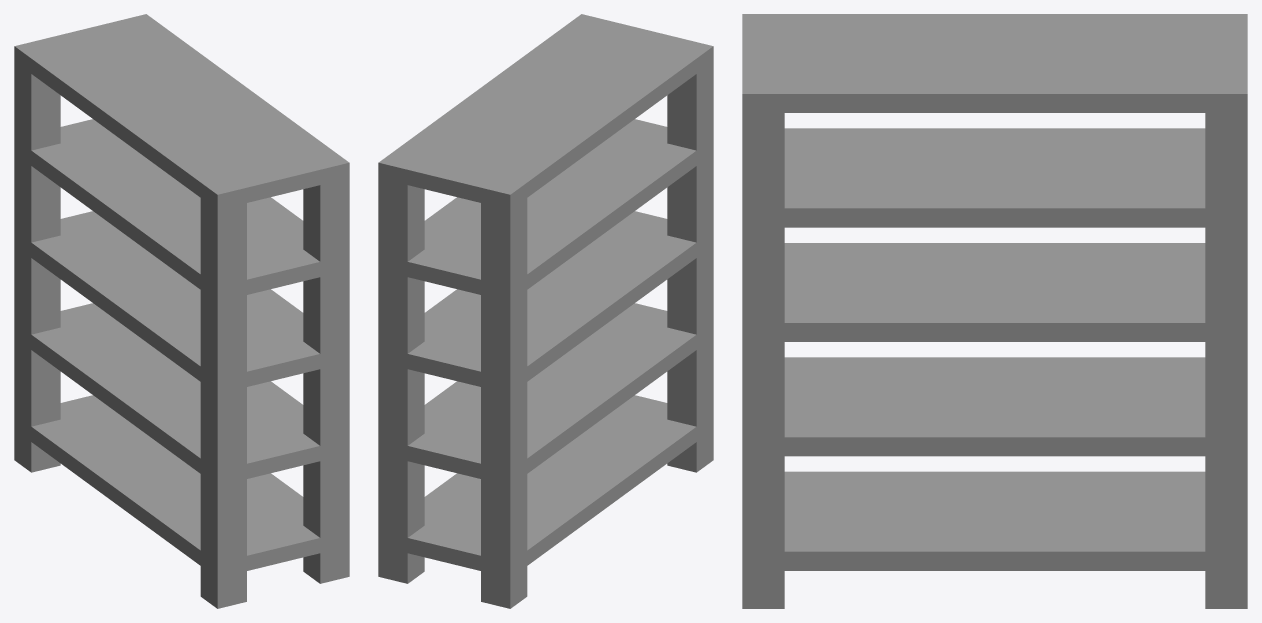
Rendered from lvl1-16.obj.
The picture shows the model from 3 angles, left to right: view 1: azimuth 30°, elevation 25°; view 2: azimuth 150°, elevation 25°; view 3: azimuth 270°, elevation 25°; orthographic projection. The views are drawn at different scales.
Bounding box in the file's own units: 0.9 × 2.7 × 2.4.
1 material, 1 textured.
